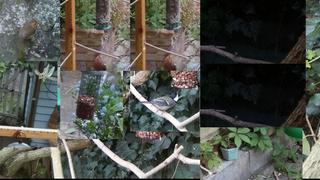great tit: (138, 91, 180, 116)
robin: (17, 20, 40, 46)
